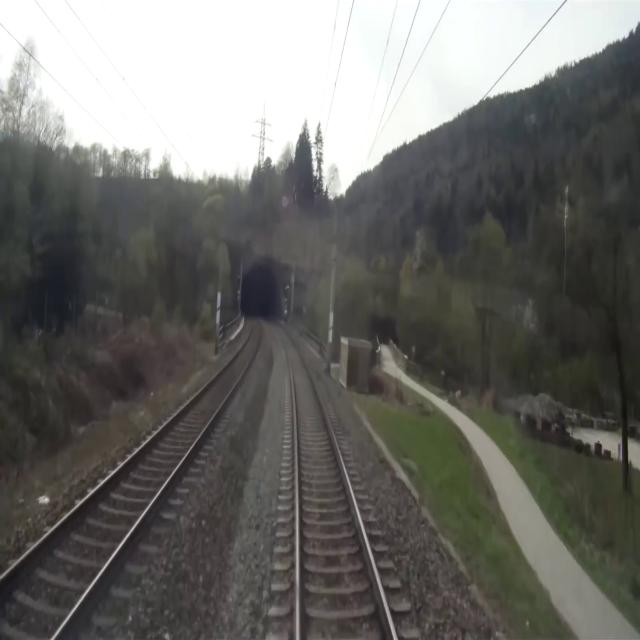rail-track: (0, 327, 259, 639), (278, 324, 393, 639)
